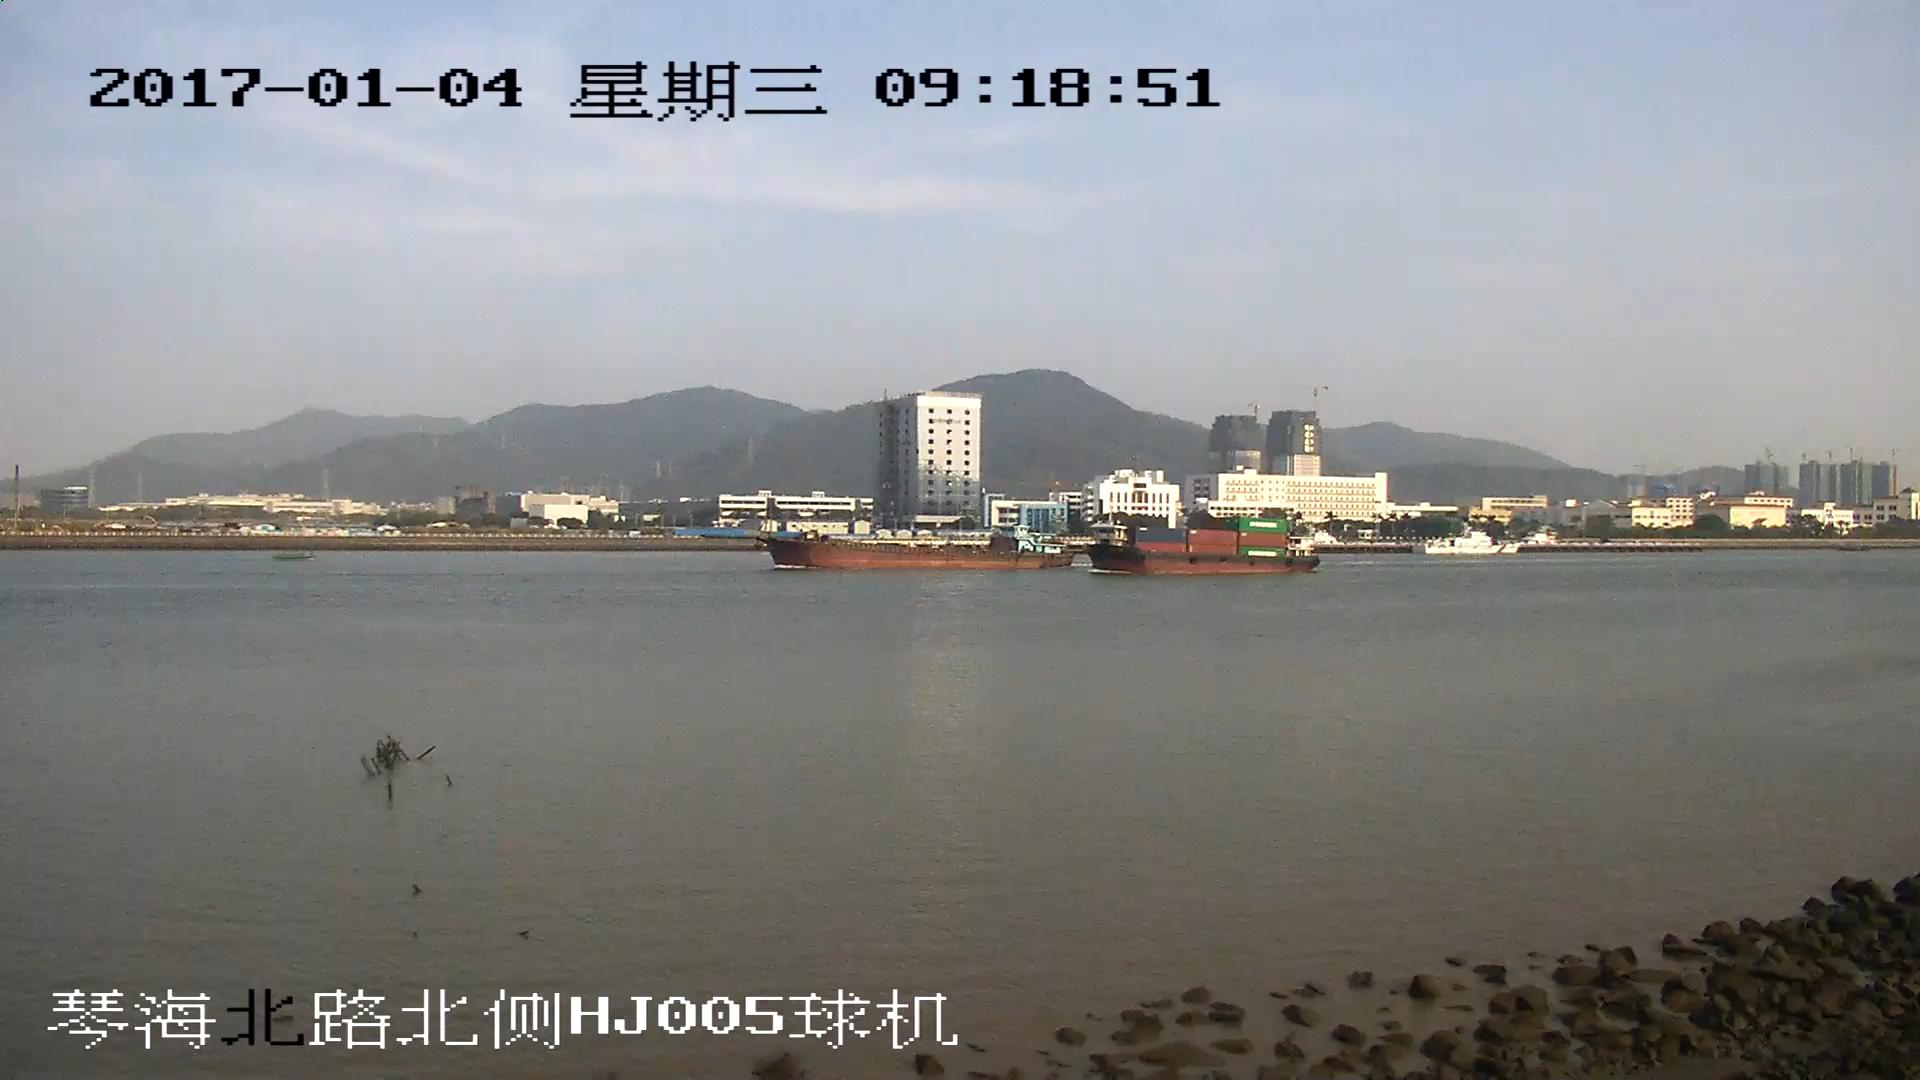bulk cargo carrier: (756, 526, 1068, 572)
container ship: (1089, 517, 1314, 579)
